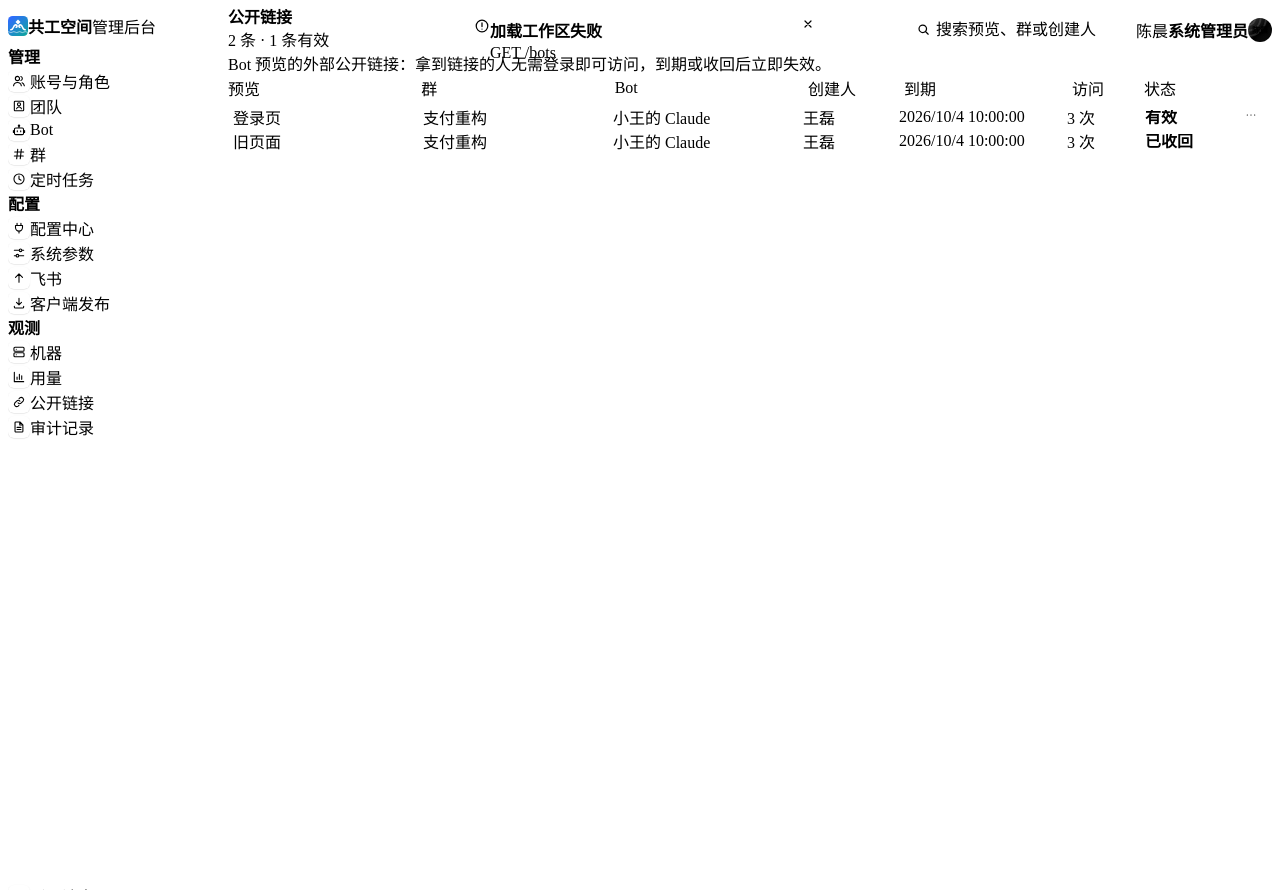
管理后台 · 公开链接 › lists every public link and revokes or extends it
The image size is (1280, 890).
Expected: the text "有效" is shown, top-left (1145, 110), bottom-right (1177, 126)
Expected: the text "已收回" is shown, top-left (1145, 134), bottom-right (1193, 150)
Click the button named "操作" at (1251, 115), box top-left (1244, 108), bottom-right (1258, 122)
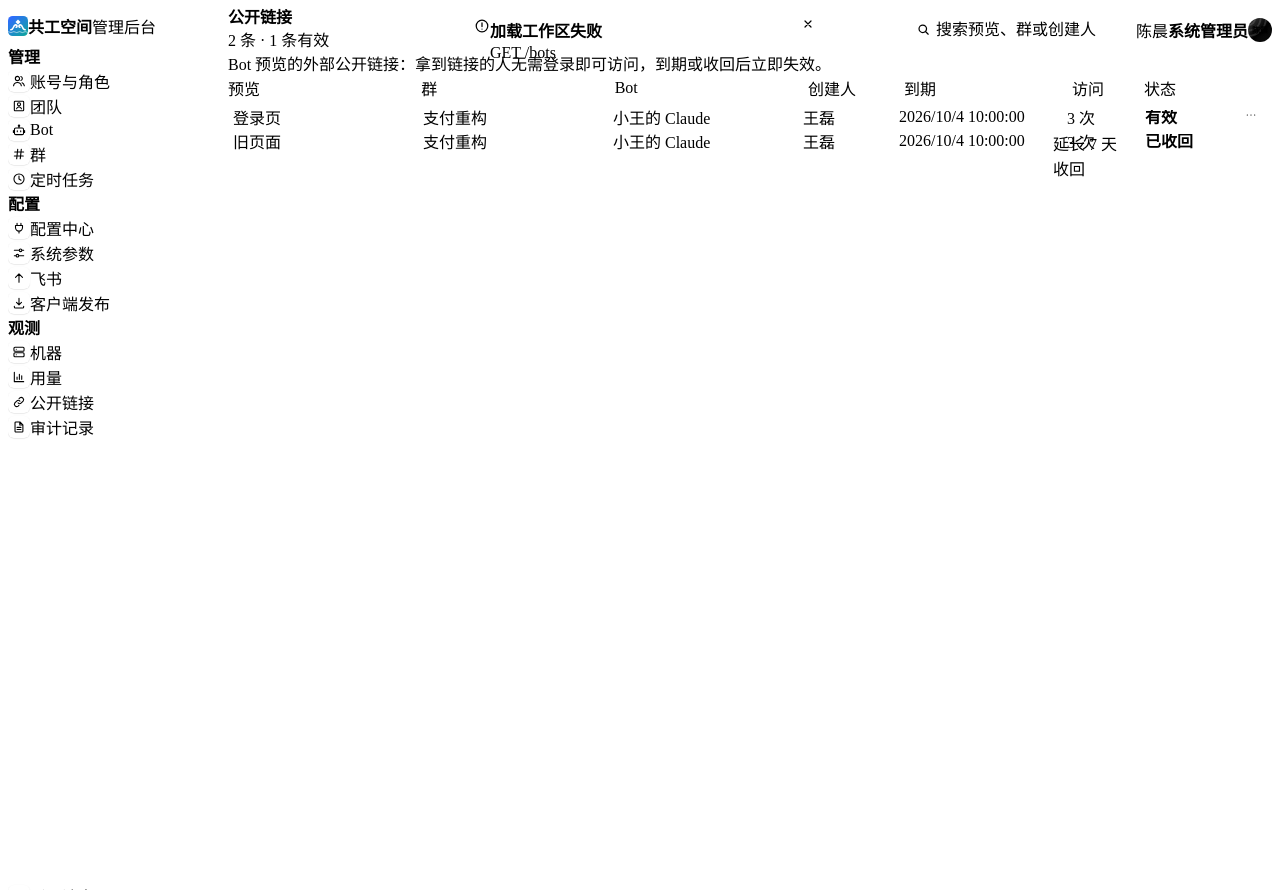
Click the menu item "延长 7 天" at (1153, 143), box top-left (1053, 131), bottom-right (1253, 155)
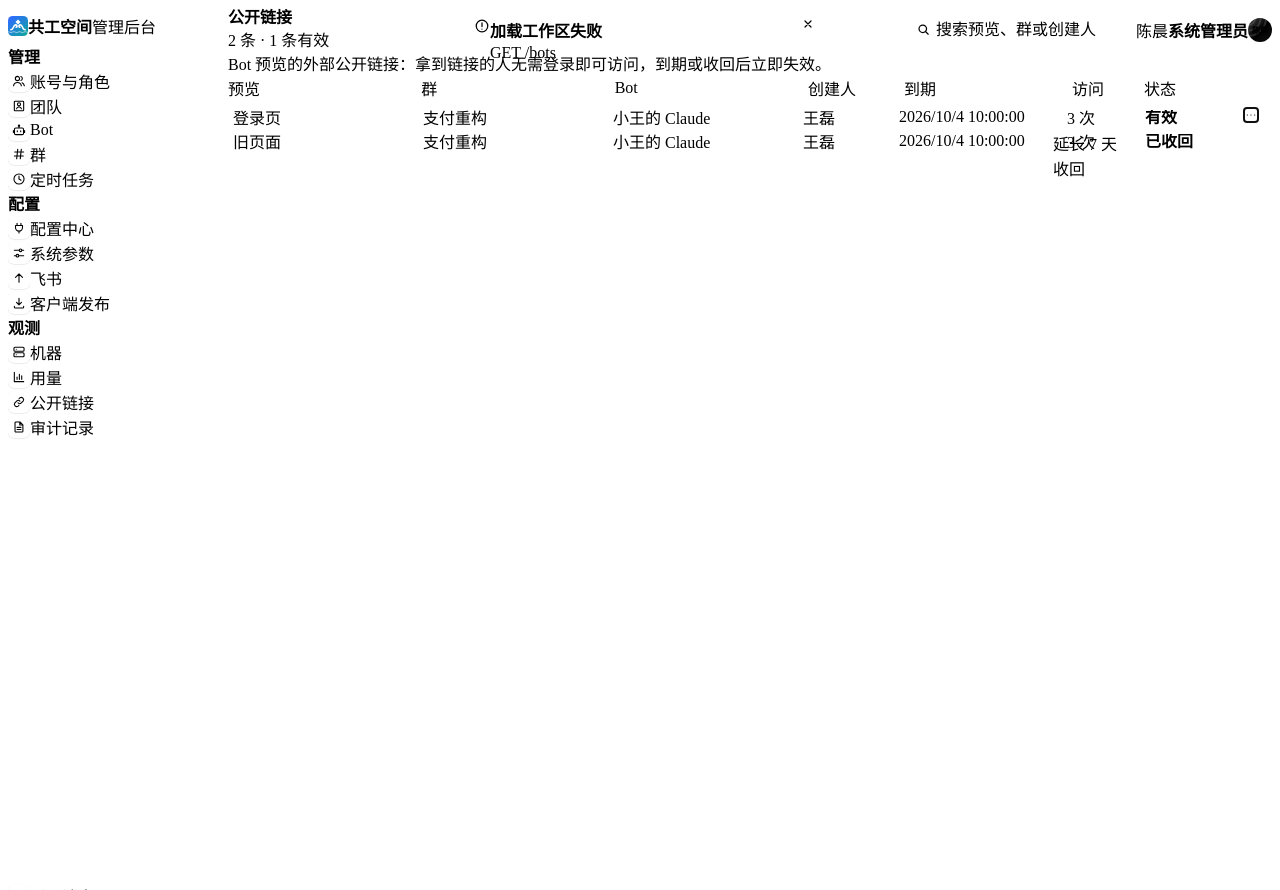
Click the button named "操作" at (1251, 115), box top-left (1244, 108), bottom-right (1258, 122)
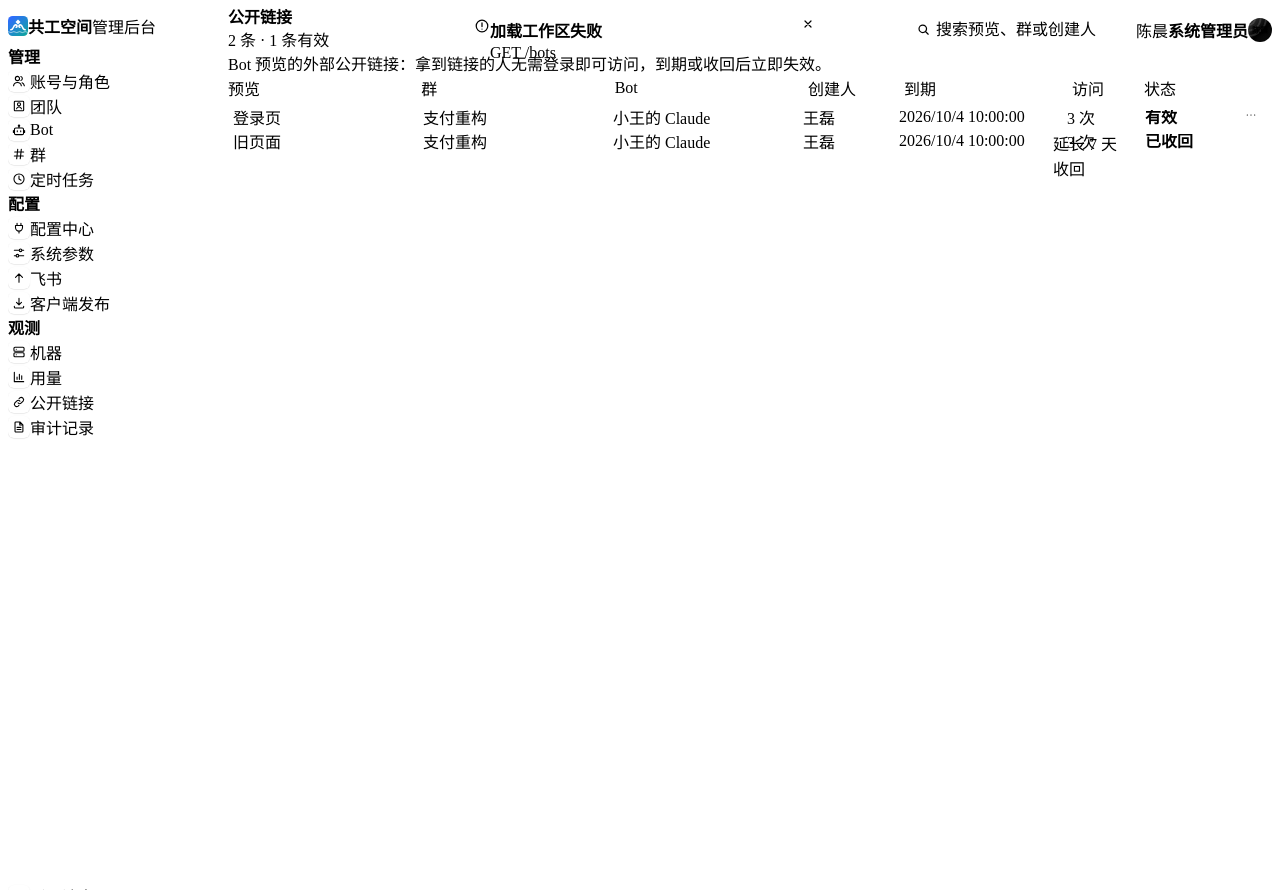
Click the menu item "收回" at (1153, 168), box top-left (1053, 156), bottom-right (1253, 180)
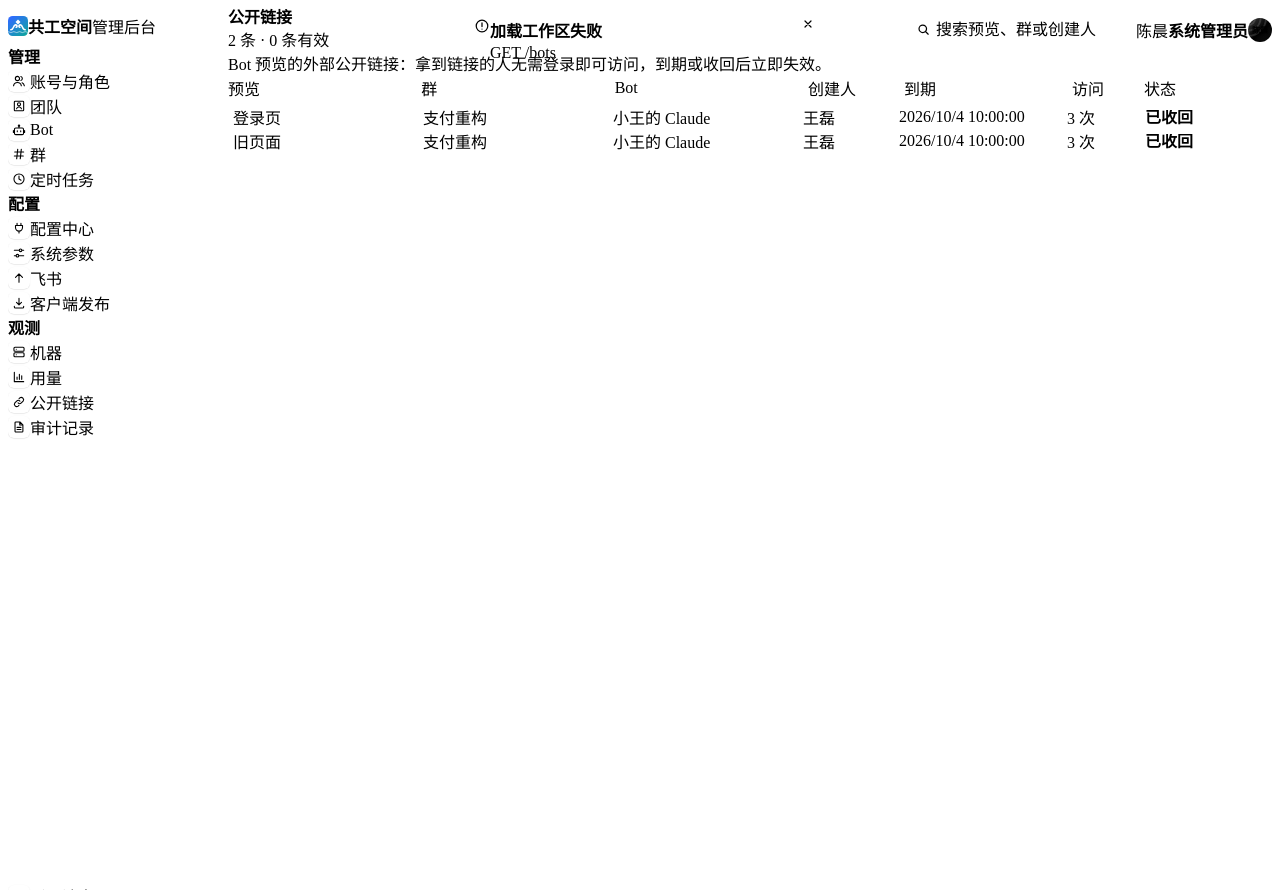
Result: the text "已收回" in the row of "登录页" is shown at top-left (1145, 110), bottom-right (1193, 126)
